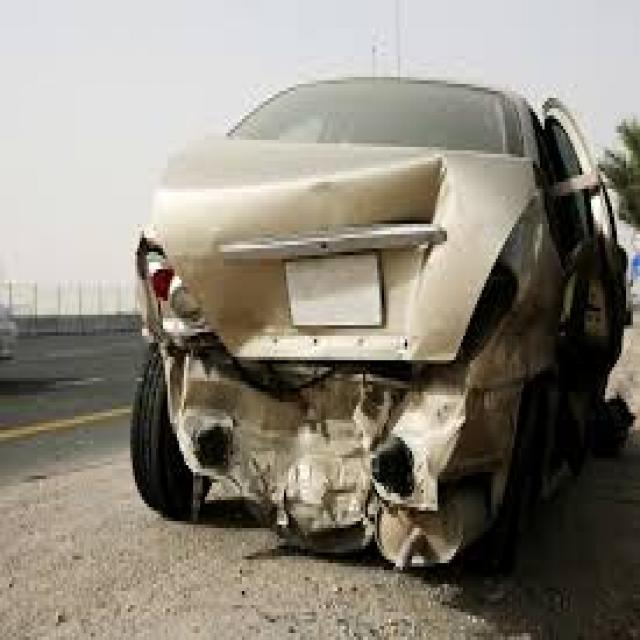severe: (119, 199, 553, 640)
